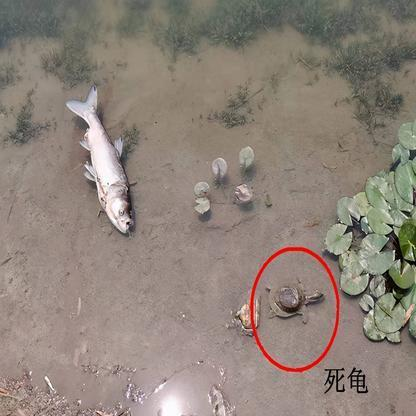deceased fish: (64, 84, 137, 234)
